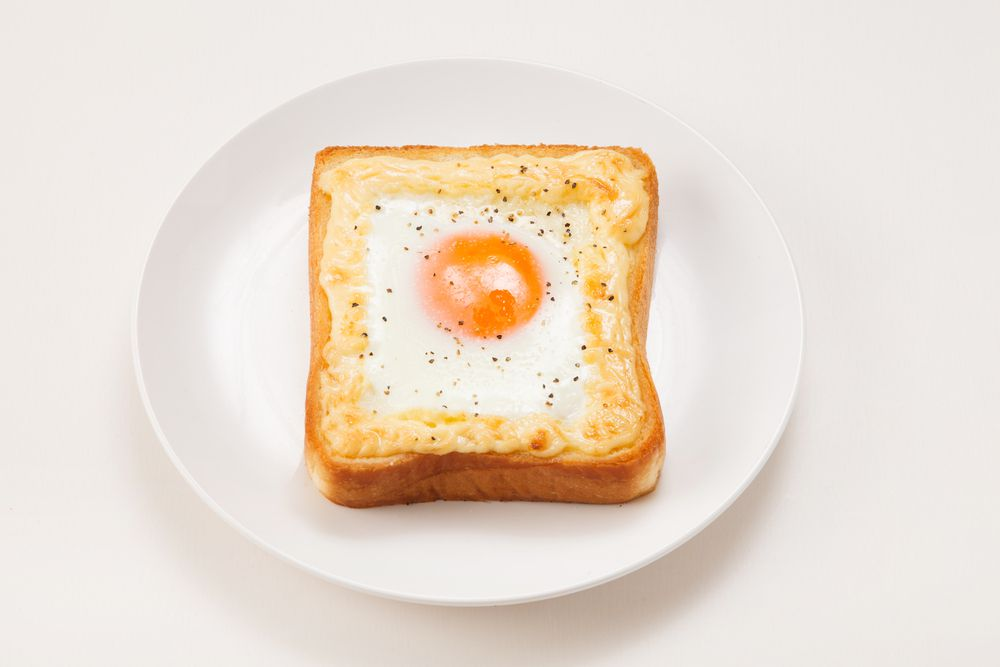fried egg: (325, 161, 605, 434)
